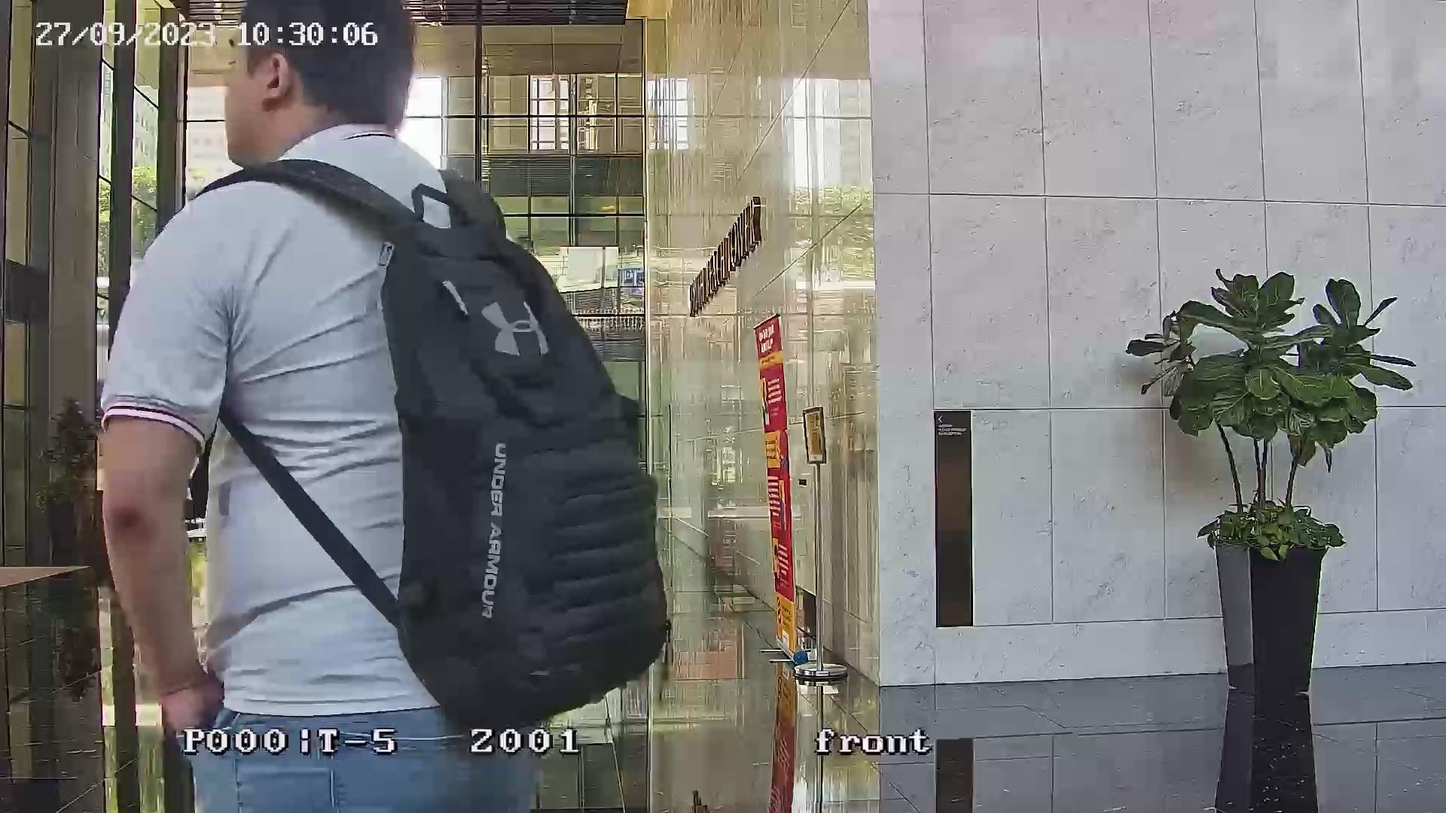person: (96, 2, 561, 800)
